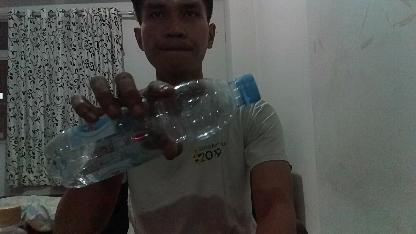Plastic Bottle: (39, 69, 261, 191)
